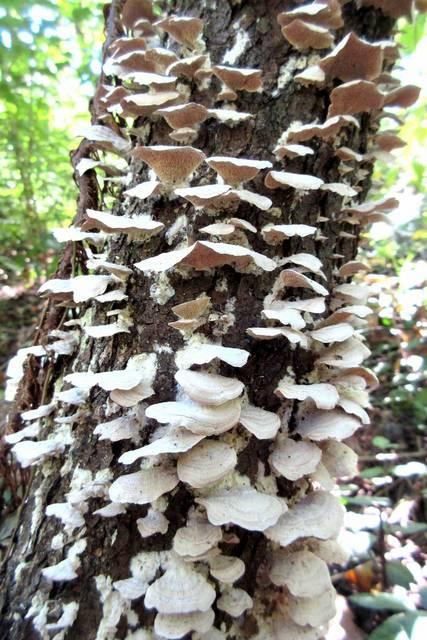Non-edible Mushroom: (2, 0, 421, 638), (127, 142, 206, 194)
